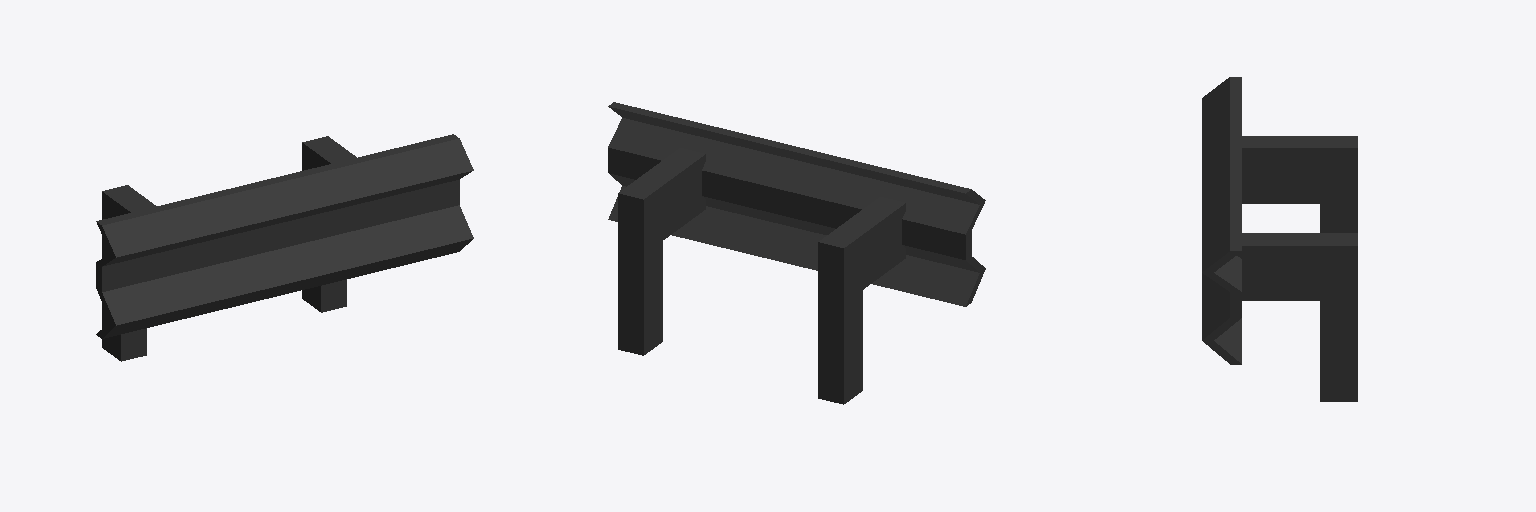
The model's file is crashbarrier.obj.
3 renders of one model, left to right at view 1: azimuth 30°, elevation 25°; view 2: azimuth 150°, elevation 25°; view 3: azimuth 270°, elevation 25°, orthographic.
Visible parts, largest first — view 1: Plane_Plane.002; view 2: Plane_Plane.002; view 3: Plane_Plane.002.
Boxes of the visible parts, box(x1,y1,x2,y2) form: Plane_Plane.002: box(96, 134, 473, 361); Plane_Plane.002: box(608, 102, 985, 404); Plane_Plane.002: box(1202, 77, 1357, 401).
Bounding box in the file's own units: 2 × 0.9844 × 0.757.